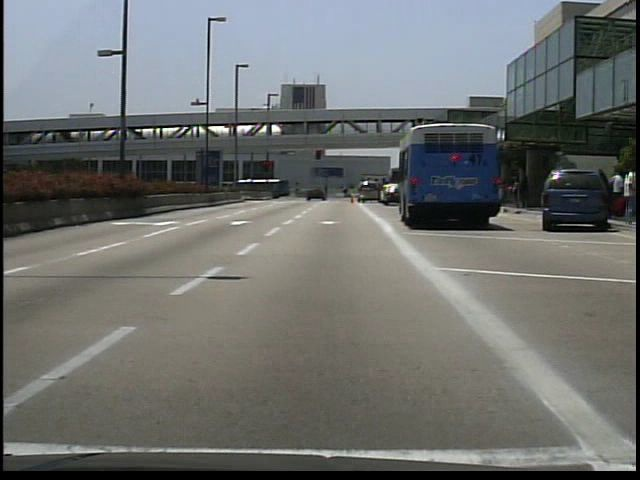person: (623, 163, 639, 222), (518, 173, 531, 209), (609, 168, 624, 192), (341, 184, 353, 199), (324, 185, 333, 200)
